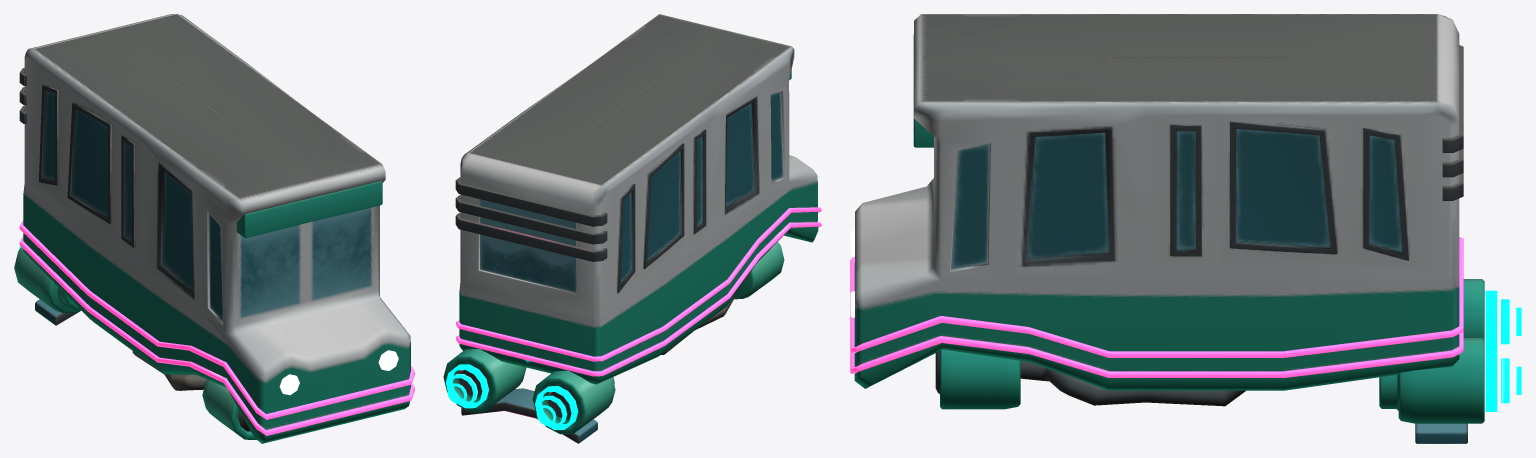
The model's file is Car_2.fbx.
The picture shows the model from 3 angles, left to right: view 1: azimuth 30°, elevation 25°; view 2: azimuth 150°, elevation 25°; view 3: azimuth 270°, elevation 25°; orthographic projection. The views are drawn at different scales.
Parts seen in each view (by area): view 1: Car_2; view 2: Car_2; view 3: Car_2.
Boxes of the visible parts, <box> form: Car_2: <box>14,14,414,443</box>; Car_2: <box>443,14,821,443</box>; Car_2: <box>850,14,1521,443</box>.
Bounding box in the file's own units: 422 × 684 × 1208.
